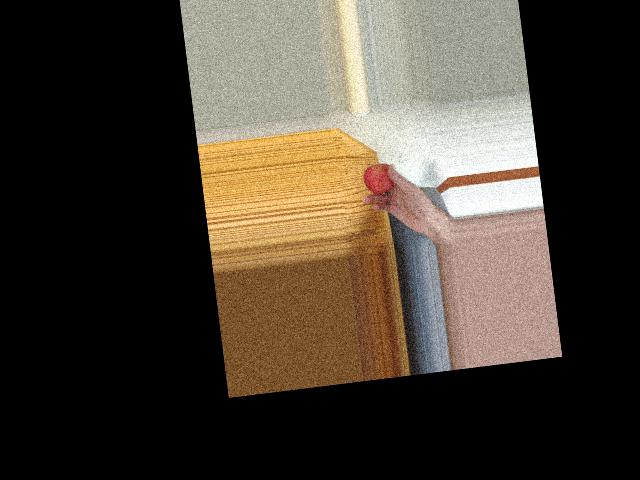apple: (361, 159, 395, 197)
